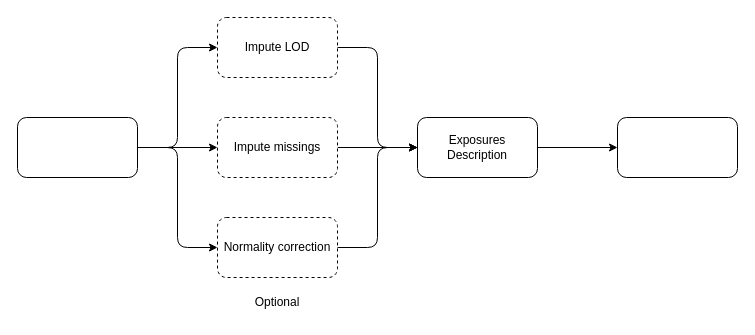
Image size: 755x335. Some labels were removed from this diagram. The centre of each missing label's shape, as x and y in pixels:
"Family and grouping factors" belongs at point 677,147.
"Load data" belongs at point 77,147.
